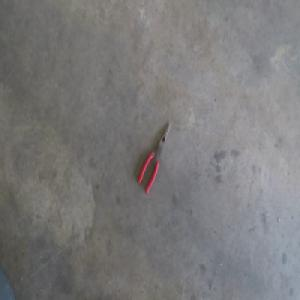Pliers: (136, 126, 170, 199)
